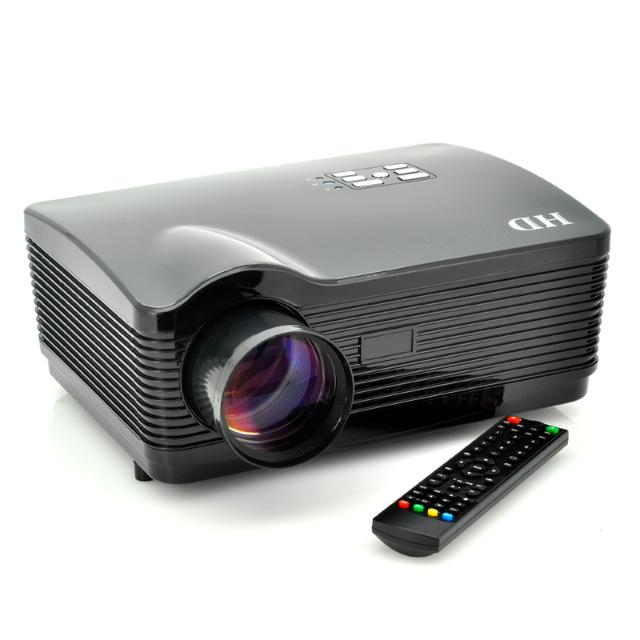Projector: (24, 127, 640, 487)
